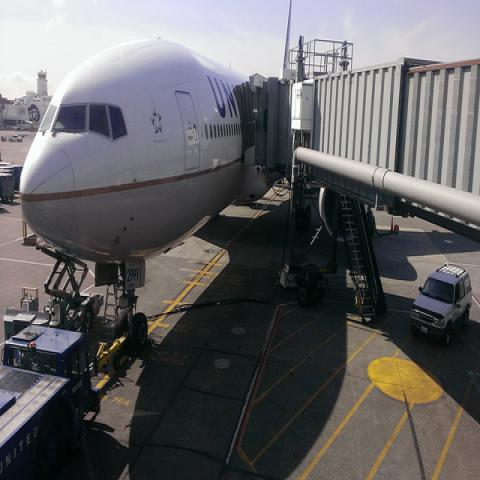truck: (2, 318, 106, 472), (410, 261, 472, 348)
